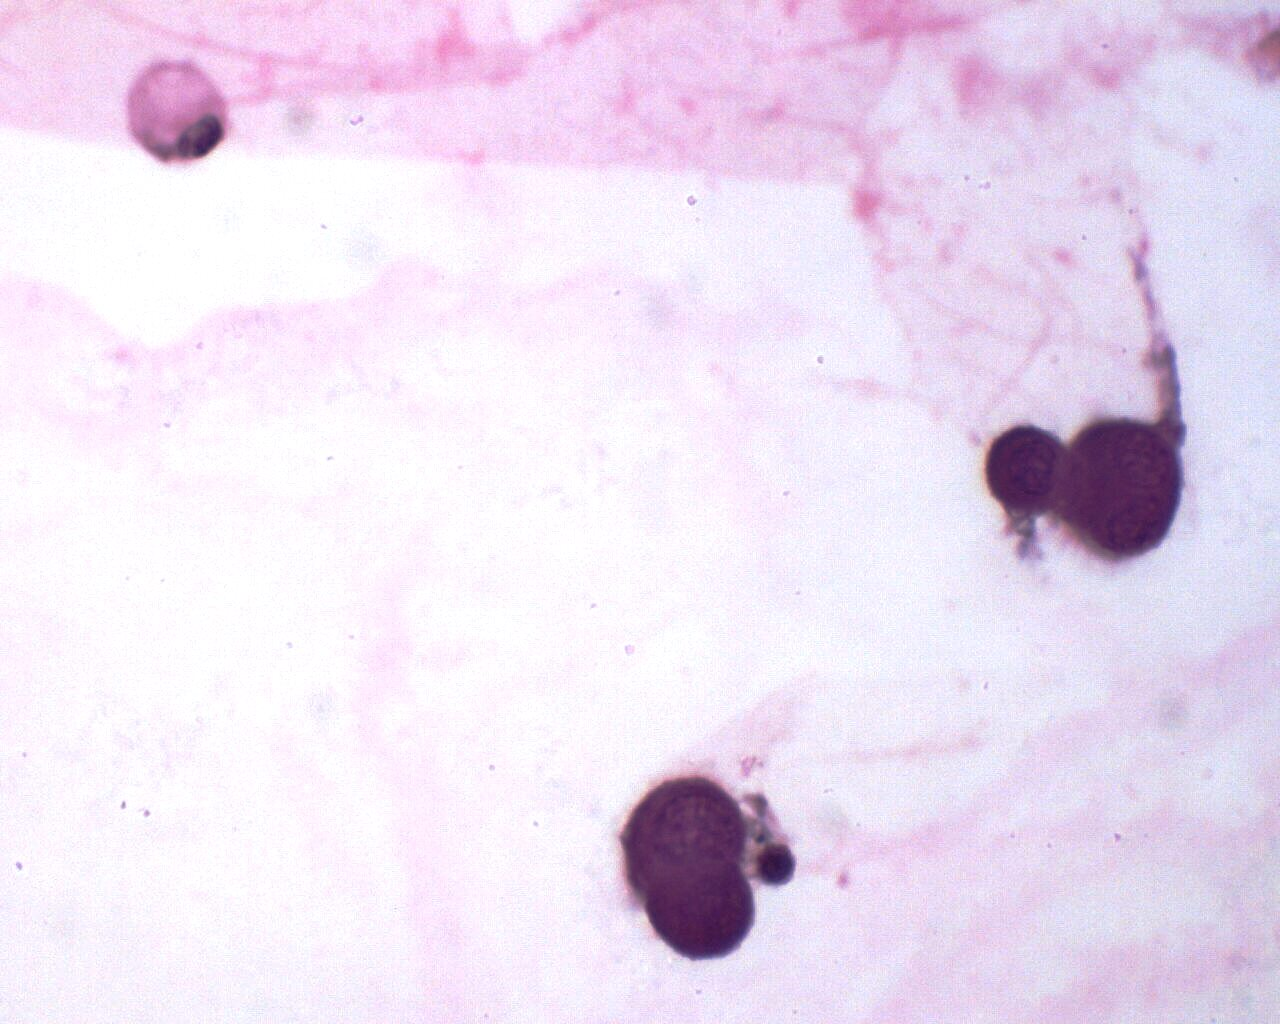ab: (1066, 414, 1186, 568), (644, 858, 762, 972), (987, 419, 1072, 525)
histo: (117, 51, 239, 177)
